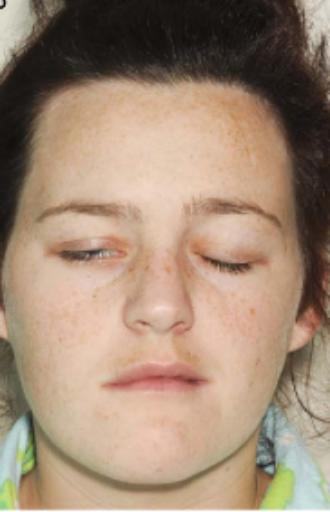left_eye: (190, 241, 264, 274)
left_lip_corner: (198, 372, 218, 392)
right_eye: (48, 247, 126, 272)
right_lip_corner: (96, 375, 118, 397)
